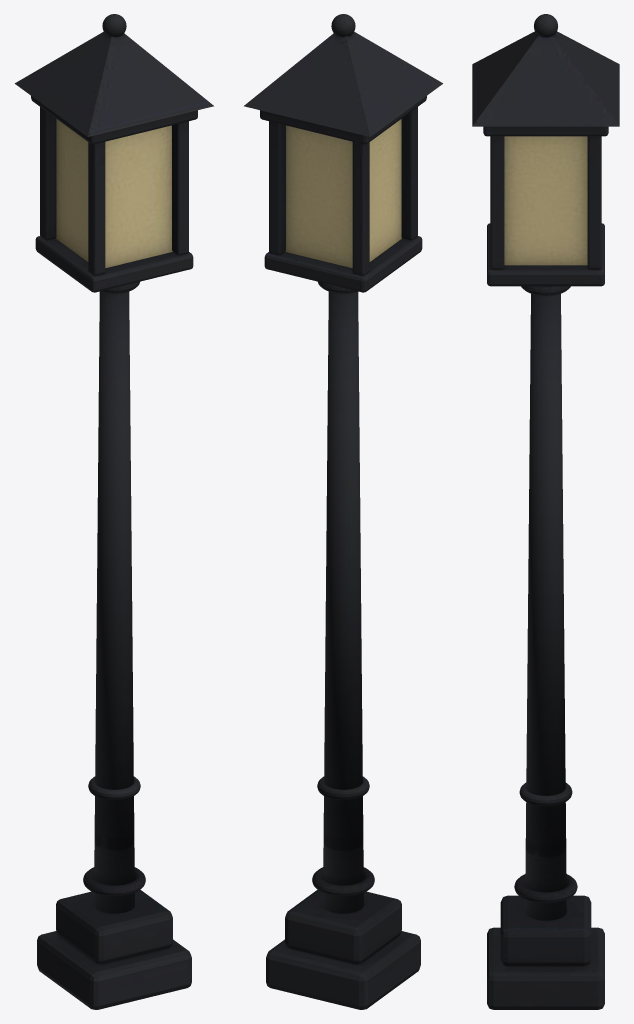
Rendered from lamp.glb.
3 views of the same model, side by side, from view 1: azimuth 30°, elevation 25°; view 2: azimuth 150°, elevation 25°; view 3: azimuth 270°, elevation 25° (orthographic).
Parts seen in each view (by area): view 1: lamp; view 2: lamp; view 3: lamp.
Boxes of the visible parts, x1,y1,x2,y2 form: lamp: [15, 14, 213, 1009]; lamp: [244, 14, 442, 1009]; lamp: [472, 14, 619, 1009].
Size of the model in its own units: 0.4243 by 3.09 by 0.4243.
2 materials, 2 textured.
